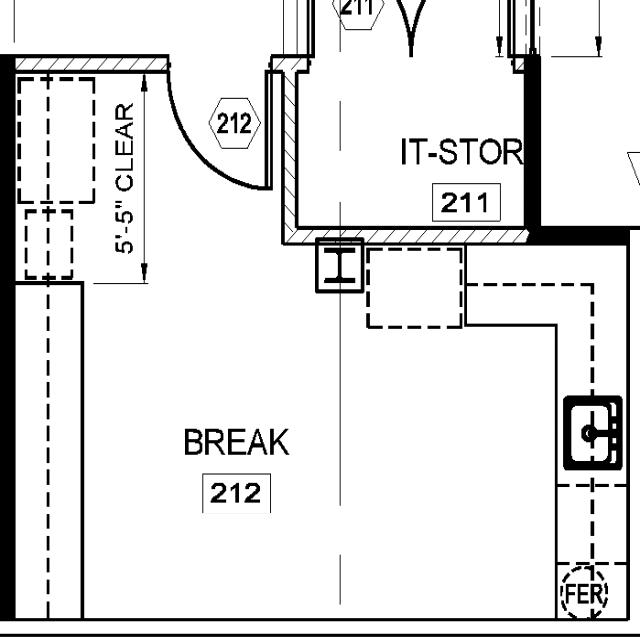Doors: (164, 54, 281, 192)
